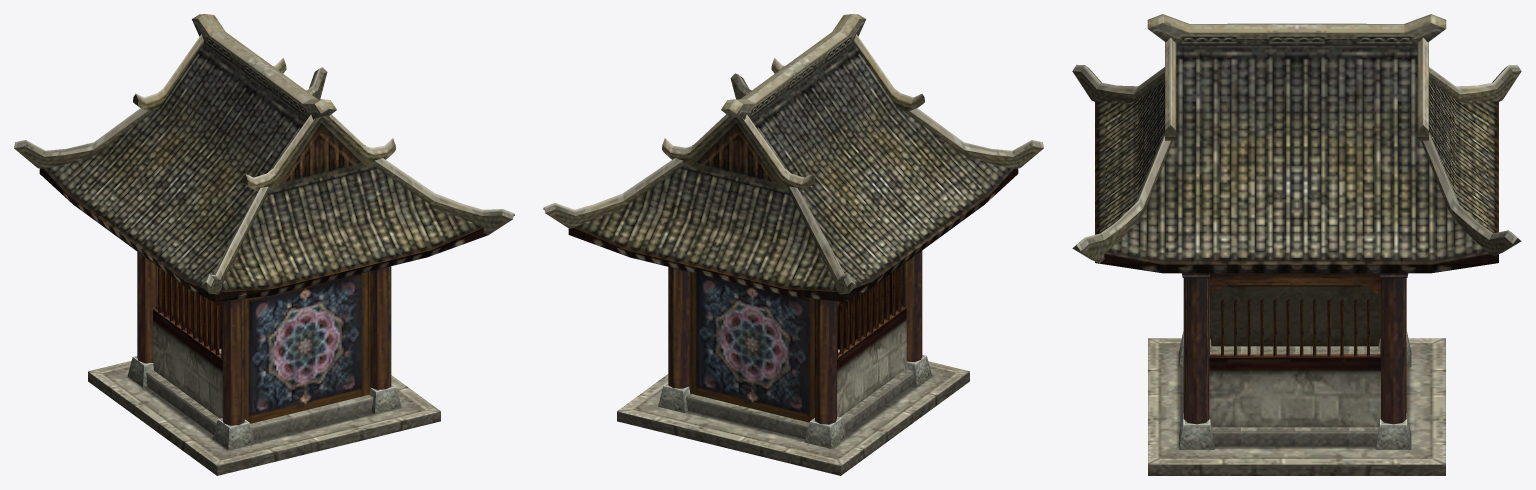
The model's file is nsm-004-house2.fbx.
The picture shows the model from 3 angles, left to right: view 1: azimuth 30°, elevation 25°; view 2: azimuth 150°, elevation 25°; view 3: azimuth 270°, elevation 25°; orthographic projection. The views are drawn at different scales.
Parts seen in each view (by area): view 1: Object02; view 2: Object02; view 3: Object02.
Part boxes in pixels (box(x1,y1,x2,y2)): Object02: box(14, 14, 514, 475); Object02: box(543, 14, 1043, 475); Object02: box(1072, 14, 1521, 475).
Size of the model in its own units: 5.23 by 5.5 by 5.63.
